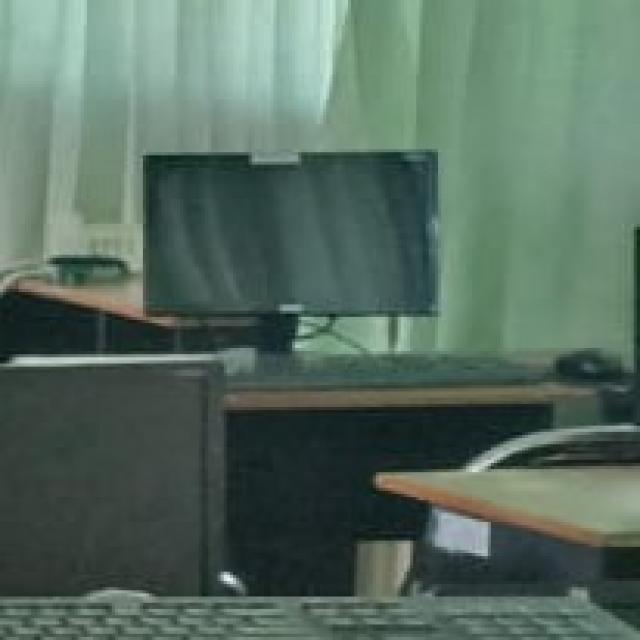offscreen: (145, 153, 435, 314)
